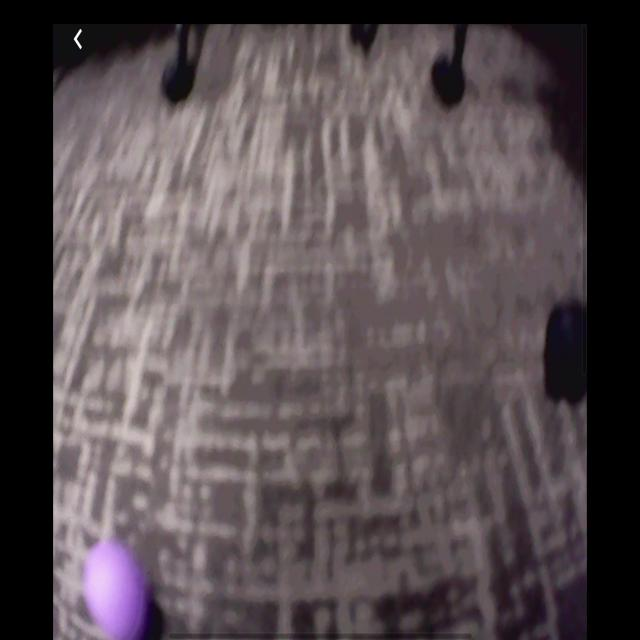ball: (82, 539, 149, 640)
